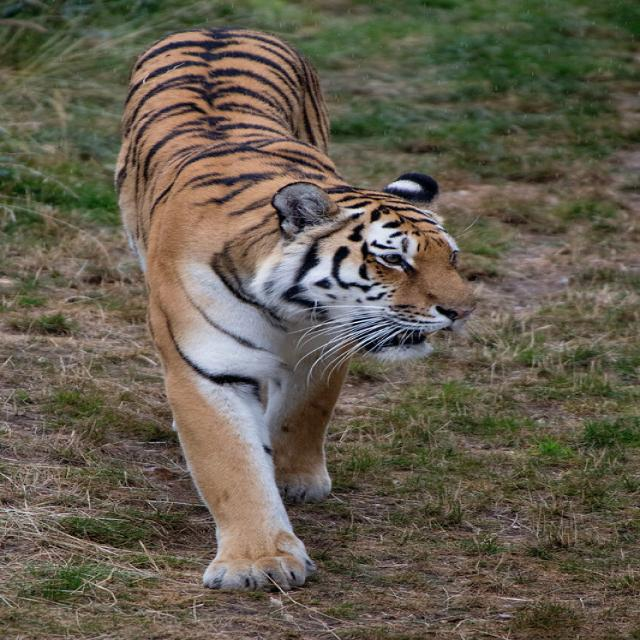Tiger: (109, 24, 490, 598)
